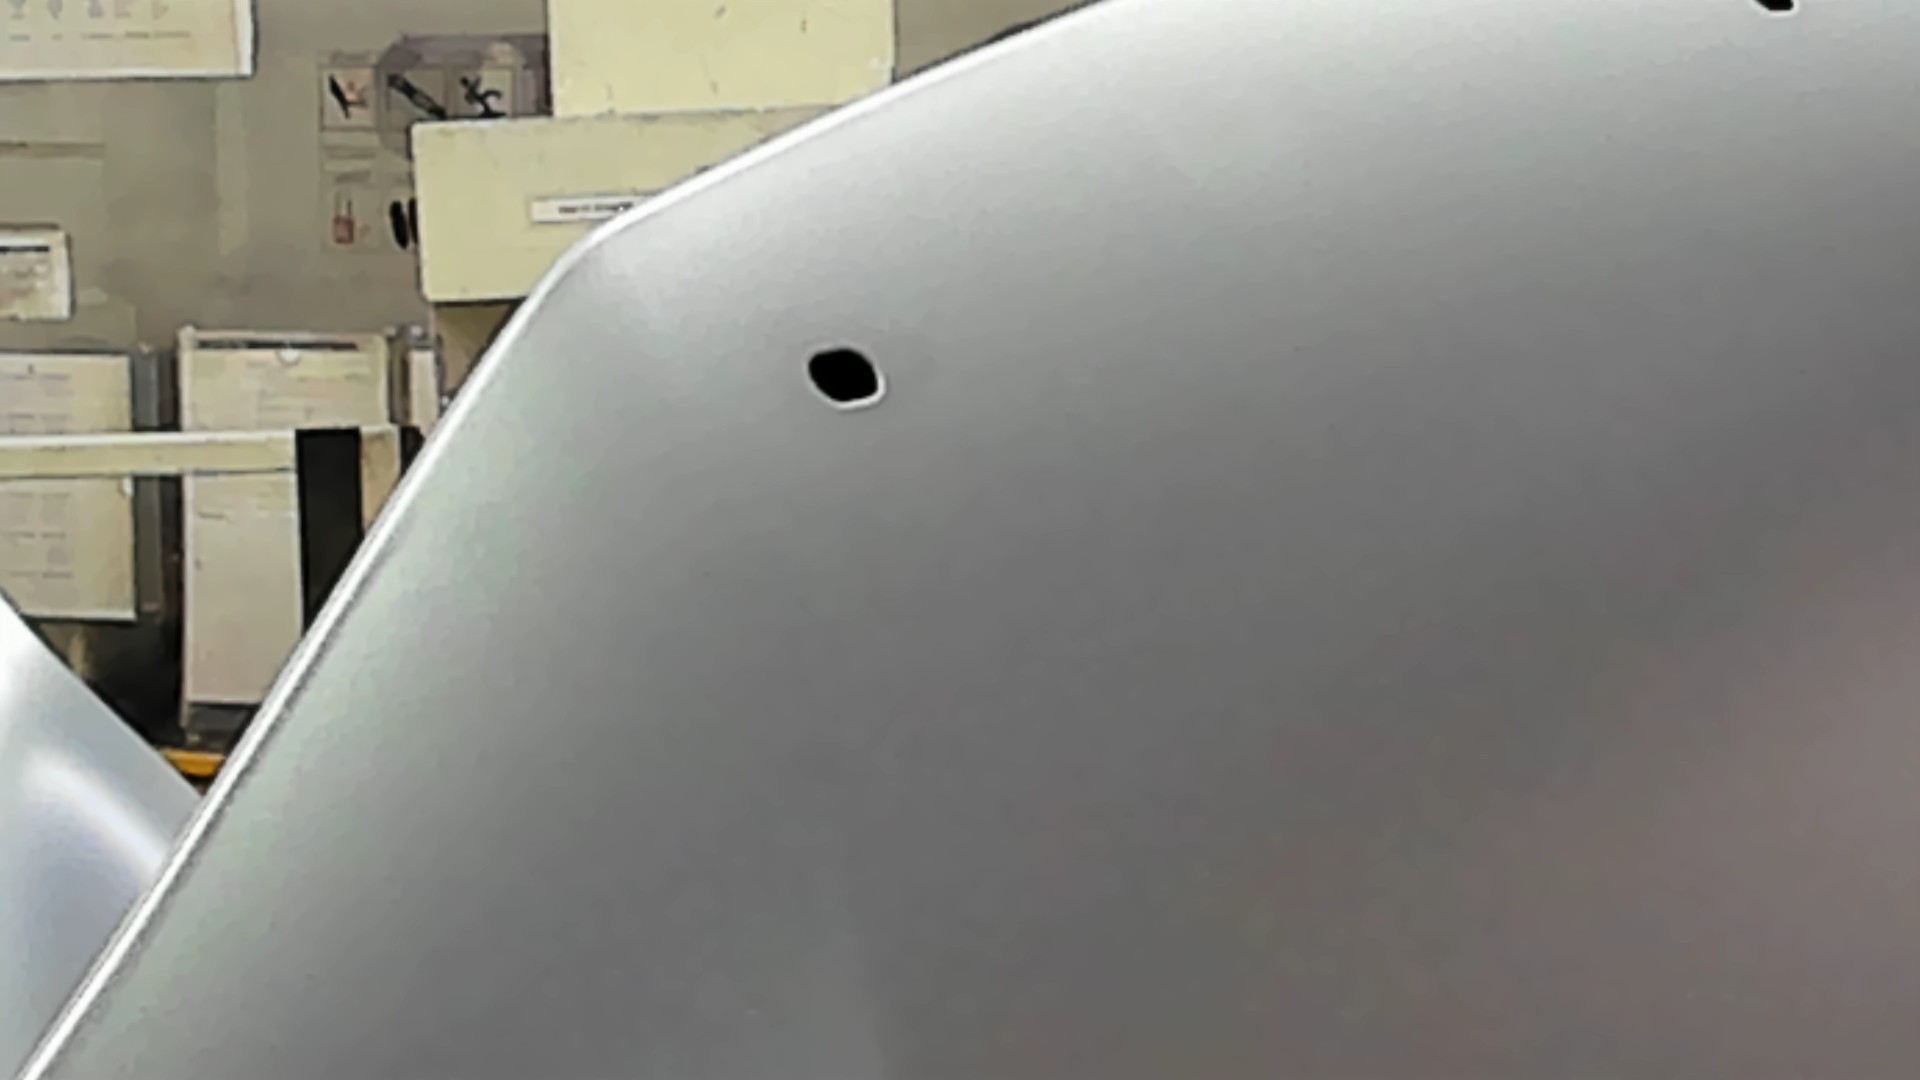amorfo: (800, 338, 891, 411), (1743, 1, 1809, 22)
